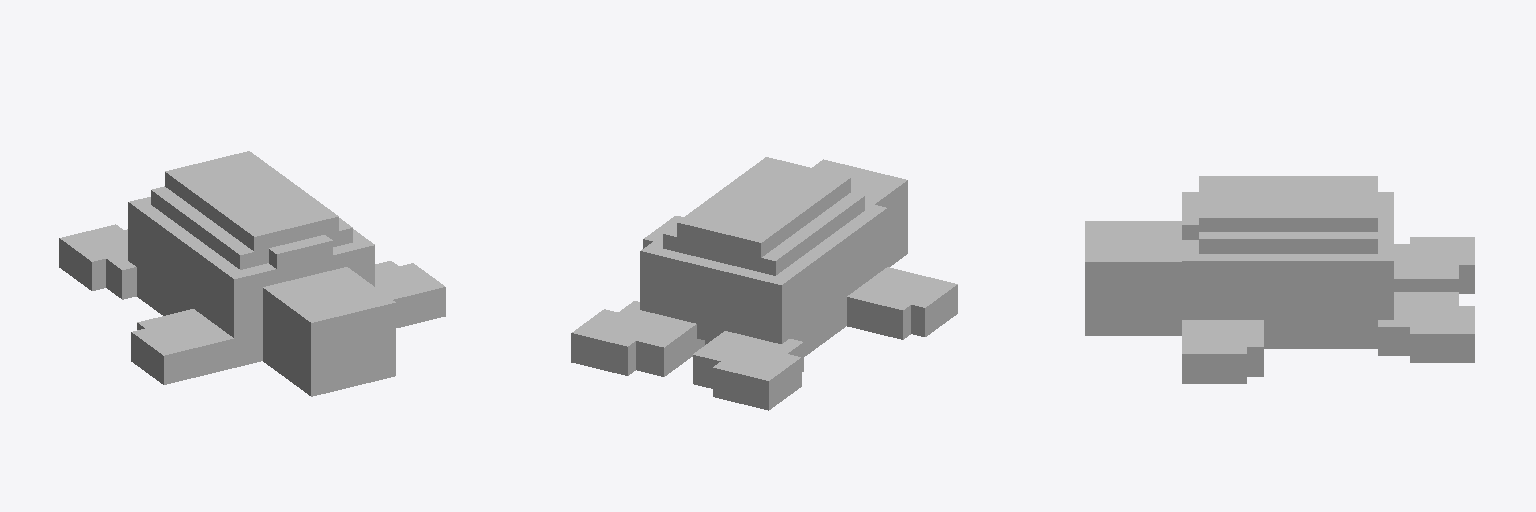
Rendered from tortuga(2) vox.obj.
3 renders of one model, left to right at view 1: azimuth 30°, elevation 25°; view 2: azimuth 150°, elevation 25°; view 3: azimuth 270°, elevation 25°, orthographic.
Visible parts, largest first — view 1: object 1; view 2: object 1; view 3: object 1.
Part boxes in pixels (bbox=[...]): object 1: bbox=[59, 151, 445, 396]; object 1: bbox=[571, 157, 957, 410]; object 1: bbox=[1085, 176, 1474, 383].
Size of the model in its own units: 2 by 0.8 by 2.4.